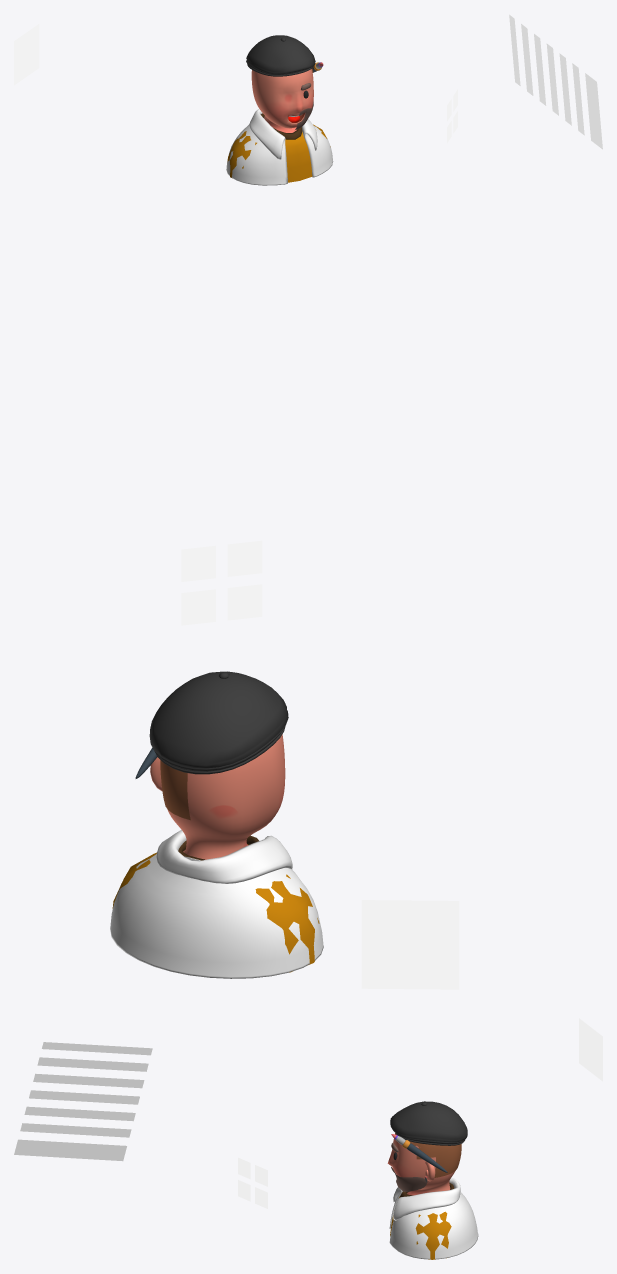
The model's file is artist.glb.
3 views of the same model, one above another, from view 1: azimuth 30°, elevation 25°; view 2: azimuth 150°, elevation 25°; view 3: azimuth 270°, elevation 25° (orthographic). The views are drawn at different scales.
Visible parts, largest first — view 1: Cube.007, Plane.002, Cube, Cube.025, Cube.044, Plane, Plane.001; view 2: Cube.007, Cube.025, Plane, Cube, Plane.001, Cube.044, Cube.045; view 3: Plane.002, Cube.007, Cube.025, Cube, Plane, Cube.044, Cube.045, Plane.001, Cube.026.
Part boxes in pixels (<box>): Cube.007: <box>226,109,333,185</box>; Plane.002: <box>509,14,602,149</box>; Cube: <box>251,69,313,132</box>; Cube.025: <box>246,35,315,76</box>; Cube.044: <box>227,113,330,182</box>; Plane: <box>14,24,39,85</box>; Plane.001: <box>447,89,457,143</box>; Cube.007: <box>110,830,323,978</box>; Cube.025: <box>149,671,288,774</box>; Plane: <box>361,900,459,989</box>; Cube: <box>167,734,285,859</box>; Plane.001: <box>181,540,262,625</box>; Cube.044: <box>112,835,319,972</box>; Cube.045: <box>160,760,190,820</box>; Plane.002: <box>14,1042,152,1161</box>; Cube.007: <box>389,1177,478,1259</box>; Cube.025: <box>390,1101,467,1145</box>; Cube: <box>387,1133,455,1195</box>; Plane: <box>579,1018,602,1081</box>; Cube.044: <box>390,1182,454,1259</box>; Cube.045: <box>409,1141,461,1177</box>; Plane.001: <box>238,1157,267,1208</box>; Cube.026: <box>391,1167,426,1191</box>.
Size of the model in its own units: 21.46 by 13.05 by 29.85.
Materials: 20 (2 with a texture image).
